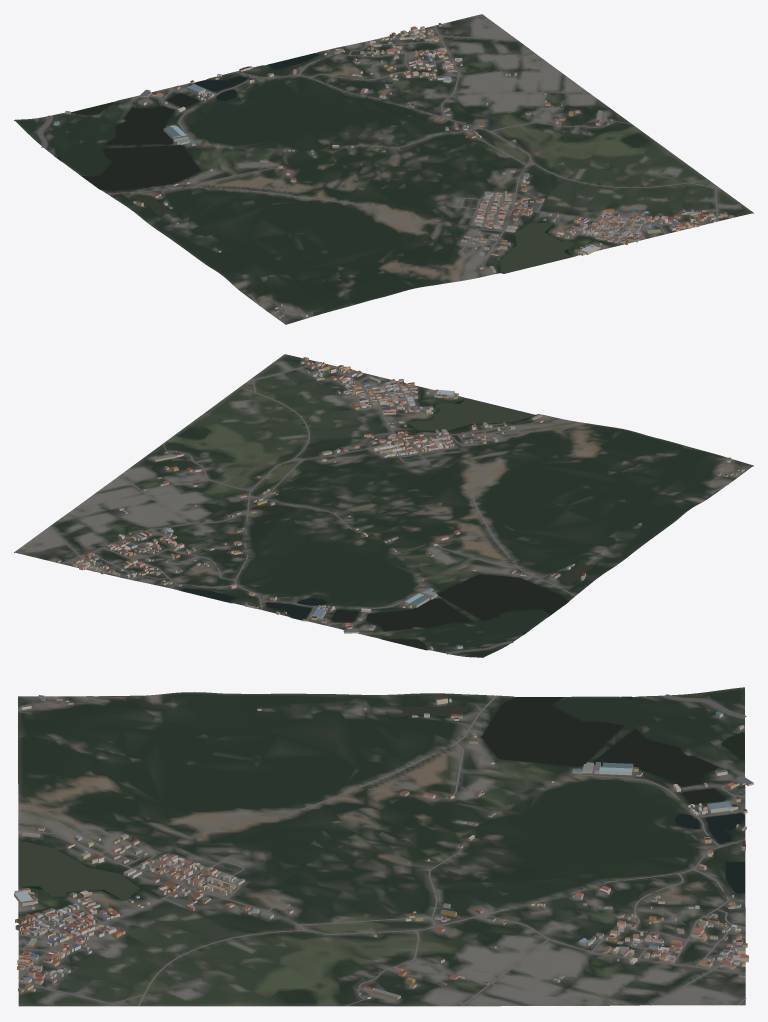
3 views of the same model, one above another, from view 1: azimuth 30°, elevation 25°; view 2: azimuth 150°, elevation 25°; view 3: azimuth 270°, elevation 25° (orthographic). The views are drawn at different scales.
Visible parts, largest first — view 1: ground, water, buildings, roads; view 2: ground, water, buildings, roads; view 3: ground, water, buildings, roads.
Boxes of the visible parts, <box> form: ground: <box>14,14,753,324</box>; water: <box>57,53,574,272</box>; buildings: <box>54,23,733,318</box>; roads: <box>37,15,721,305</box>; ground: <box>14,354,753,657</box>; water: <box>182,398,595,649</box>; buildings: <box>56,357,744,650</box>; roads: <box>16,364,728,654</box>; ground: <box>18,687,745,1006</box>; water: <box>18,696,744,900</box>; buildings: <box>14,695,753,999</box>; roads: <box>18,694,746,1006</box>.
Bounding box in the file's own units: 1406 × 29.7 × 1427.
